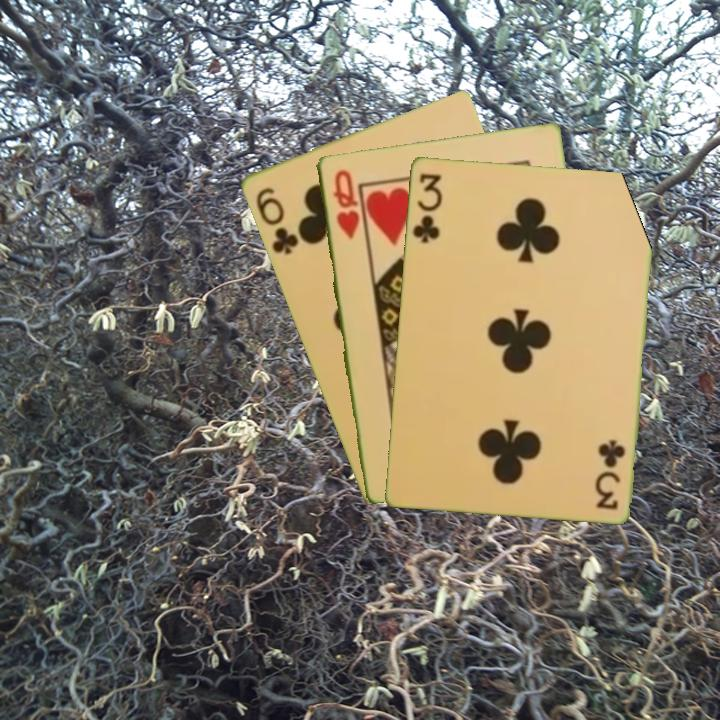3c: (409, 169, 445, 246), (593, 435, 628, 512)
6c: (251, 183, 301, 258)
Qh: (329, 165, 362, 242)
